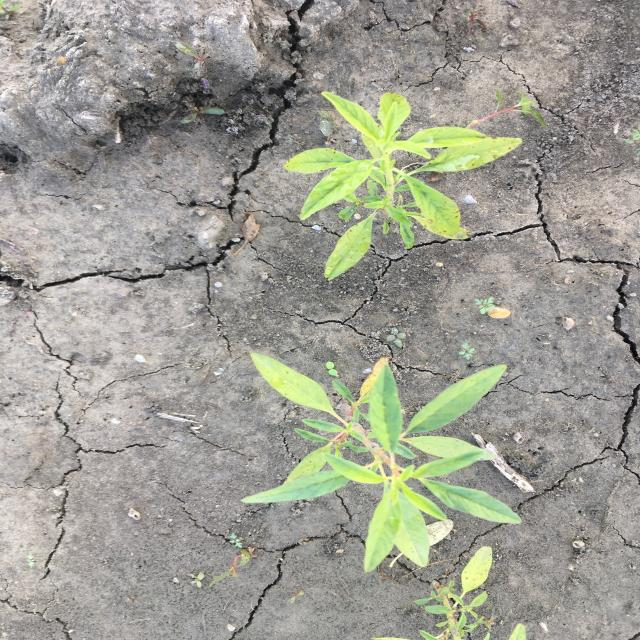Waterhemp: (238, 350, 524, 574), (281, 91, 525, 282), (416, 546, 524, 639)
